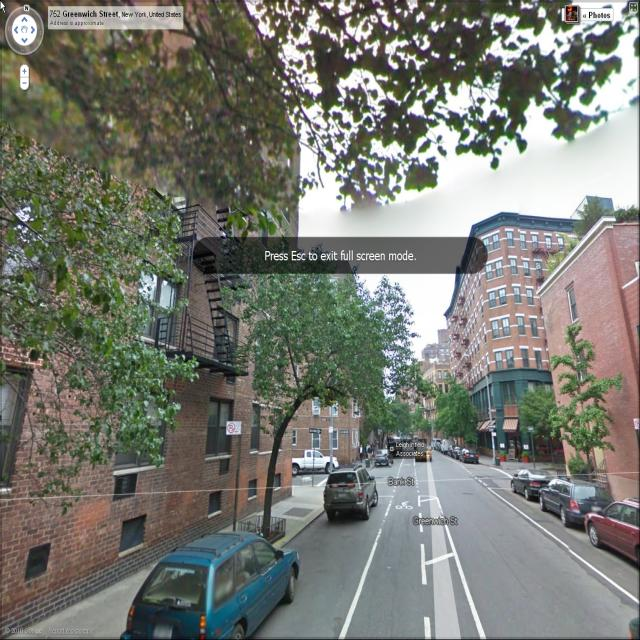b_1: (447, 188, 550, 442)
b_2: (0, 0, 301, 640), (539, 199, 640, 487), (280, 304, 380, 478), (393, 328, 452, 453)
